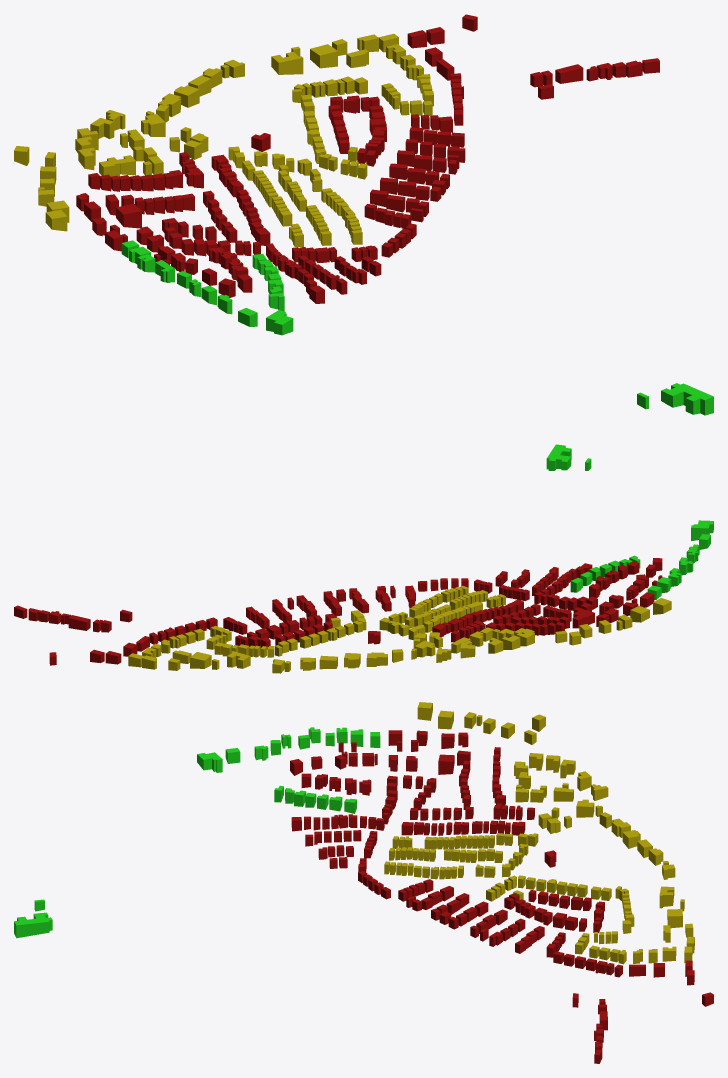
3 views of the same model, one above another, from view 1: azimuth 30°, elevation 25°; view 2: azimuth 150°, elevation 25°; view 3: azimuth 270°, elevation 25° (orthographic). The views are drawn at different scales.
Visible parts, largest first — view 1: stage_3; view 2: stage_3; view 3: stage_3.
Boxes of the visible parts, x1,y1,x2,y2 form: stage_3: (14,14,713,415); stage_3: (14,444,713,673); stage_3: (14,702,713,1063).
Bounding box in the file's own units: 1452 × 219 × 1559.
